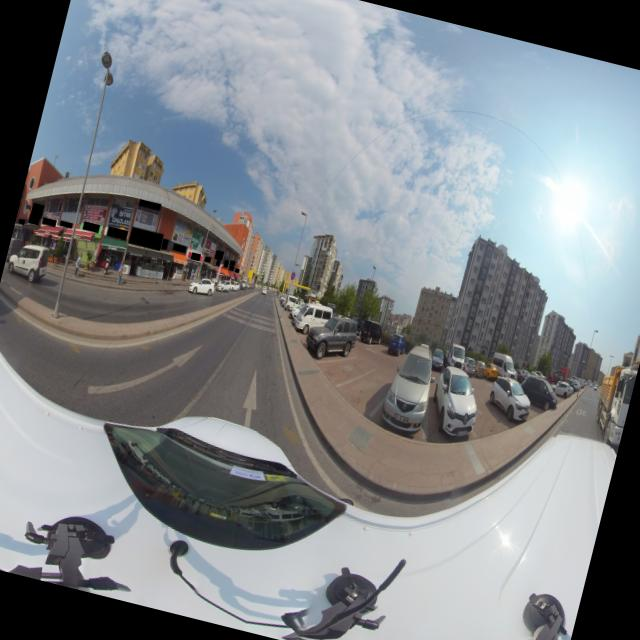SignStore: (127, 226, 163, 250), (138, 199, 161, 211), (106, 227, 128, 239), (82, 223, 100, 232), (30, 205, 44, 216), (172, 243, 186, 253), (160, 238, 169, 250), (59, 221, 73, 228), (27, 216, 40, 223), (214, 250, 223, 260), (190, 252, 200, 261), (41, 219, 56, 225), (204, 256, 211, 263), (223, 259, 228, 268), (228, 265, 234, 271), (229, 260, 235, 266), (215, 259, 220, 266), (18, 220, 25, 225), (234, 268, 239, 273)
